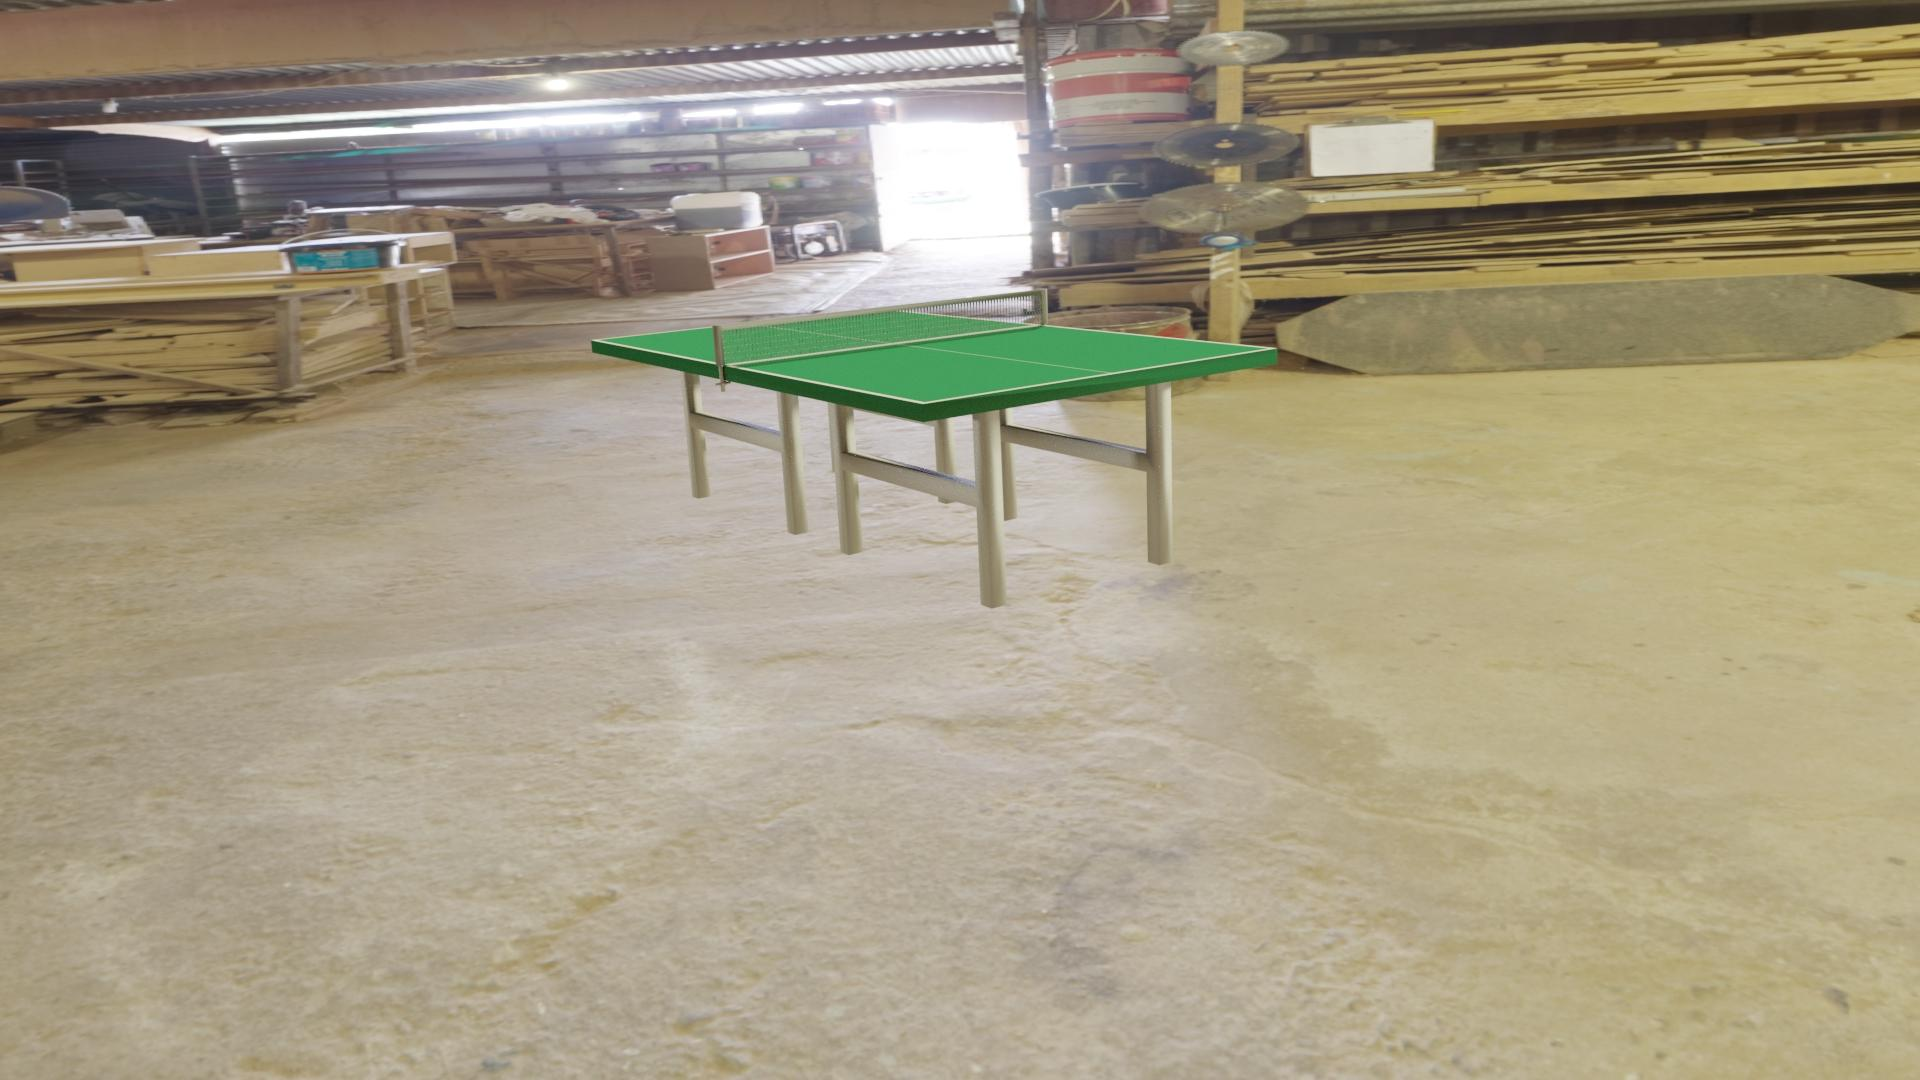table: (597, 309, 1270, 402)
